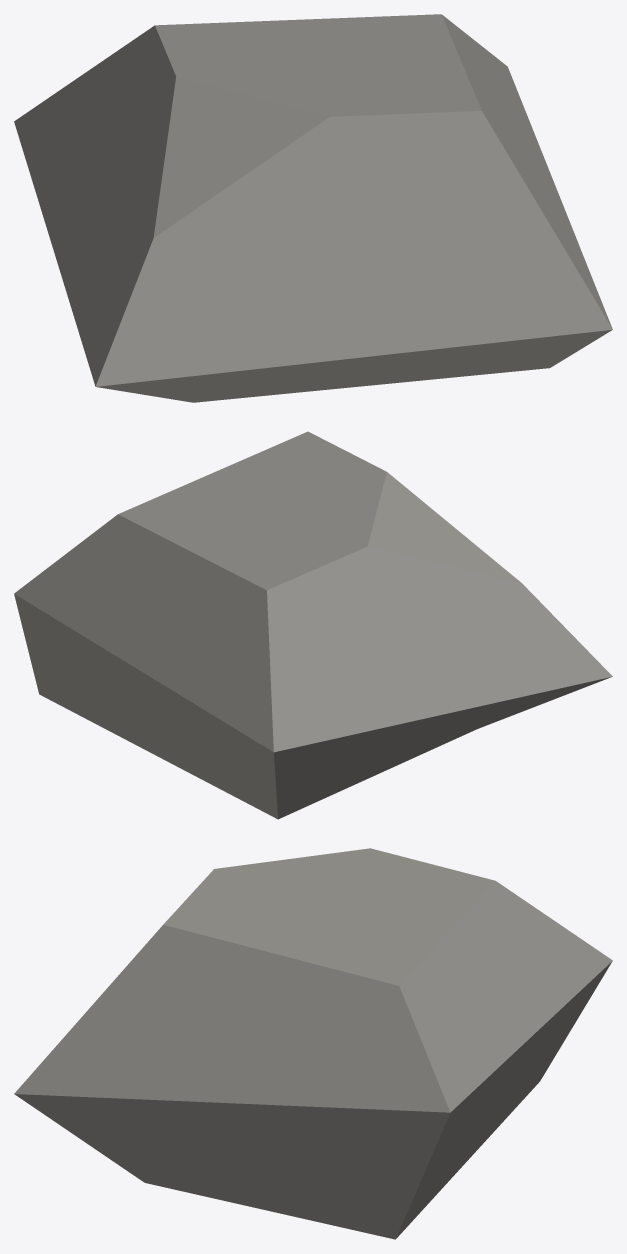
File: small_rock.glb
The picture shows the model from 3 angles, top to bottom: view 1: azimuth 30°, elevation 25°; view 2: azimuth 150°, elevation 25°; view 3: azimuth 270°, elevation 25°; orthographic projection. The views are drawn at different scales.
Visible parts, largest first — view 1: small_rock; view 2: small_rock; view 3: small_rock.
Boxes of the visible parts, x1,y1,x2,y2 form: small_rock: (14, 14, 612, 402); small_rock: (14, 431, 612, 819); small_rock: (14, 848, 612, 1239).
Bounding box in the file's own units: 0.8826 × 0.3985 × 0.9171.
1 material, 1 textured.
